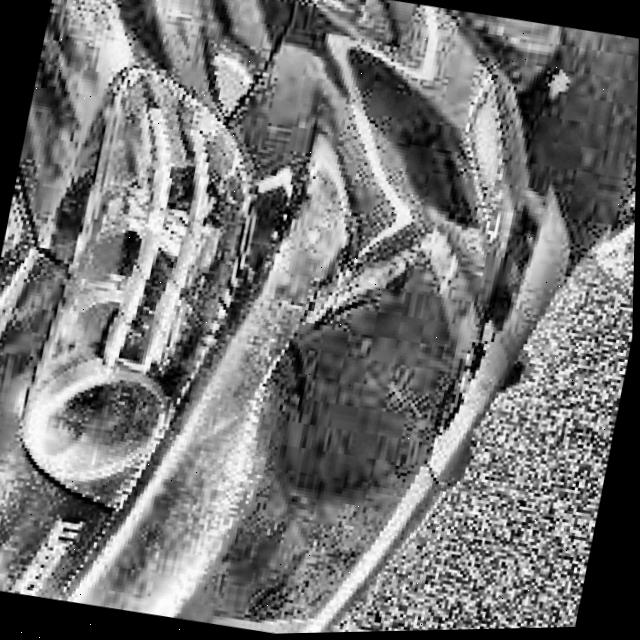bumper_dent: (247, 206, 520, 526)
